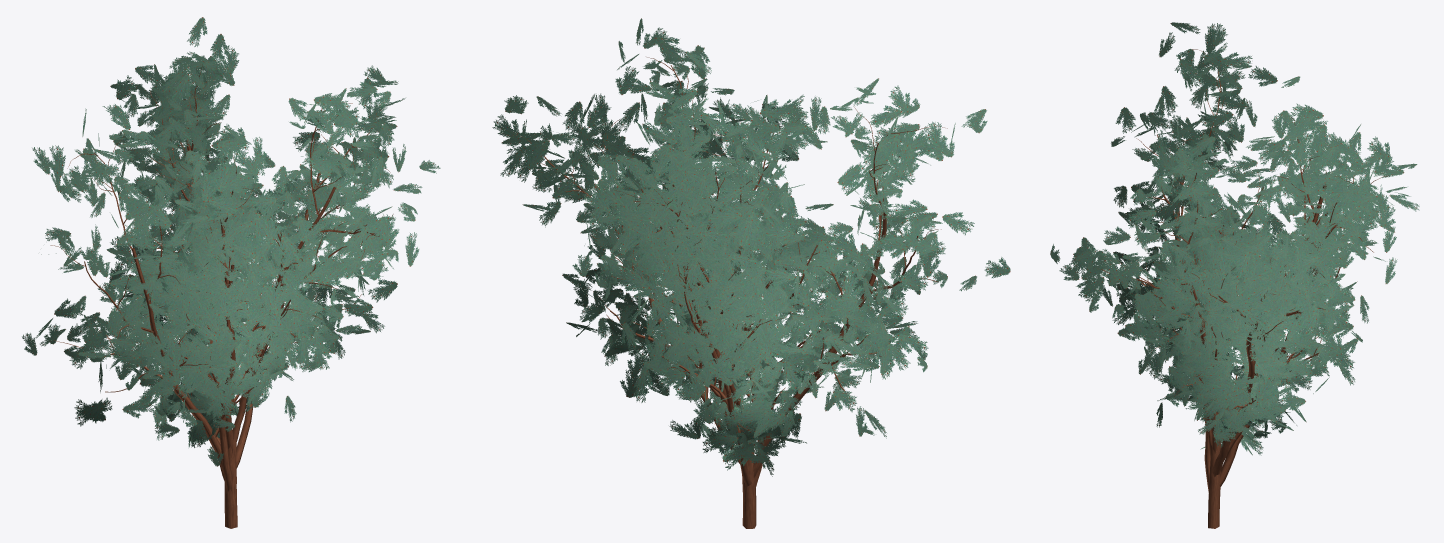
File: JU3_Juniper_SmallTree_4.2m.glb
The picture shows the model from 3 angles, left to right: view 1: azimuth 30°, elevation 25°; view 2: azimuth 150°, elevation 25°; view 3: azimuth 270°, elevation 25°; orthographic projection. The views are drawn at different scales.
Visible parts, largest first — view 1: JU3_leaves, JU3_wood; view 2: JU3_leaves, JU3_wood; view 3: JU3_leaves, JU3_wood.
Boxes of the visible parts, bbox=[...] form: JU3_leaves: bbox=[22, 17, 440, 466]; JU3_wood: bbox=[50, 64, 393, 528]; JU3_leaves: bbox=[492, 18, 1010, 476]; JU3_wood: bbox=[515, 57, 947, 528]; JU3_leaves: bbox=[1050, 22, 1419, 455]; JU3_wood: bbox=[1101, 49, 1387, 528].
Size of the model in its own units: 3.97 by 4.2 by 3.16.
2 materials, 2 textured.
